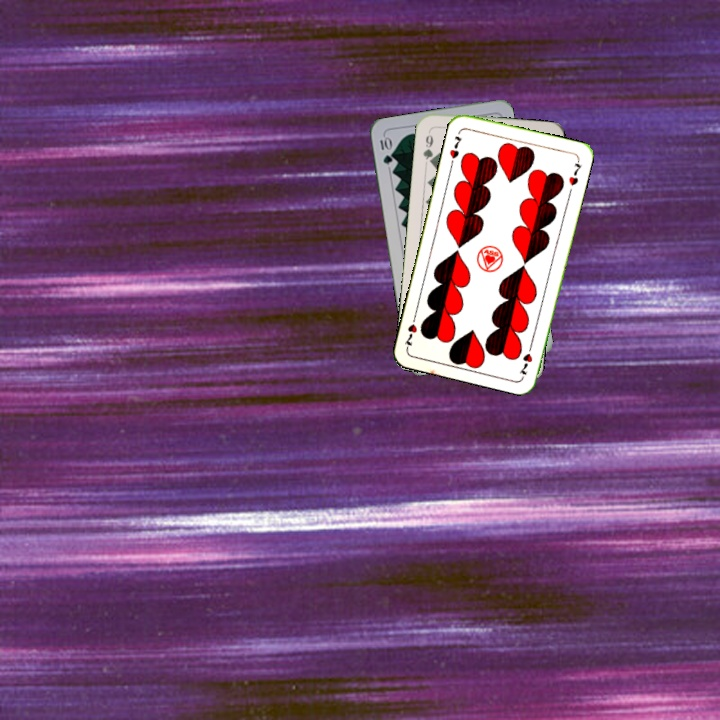G10: (376, 133, 395, 167)
G9: (419, 126, 436, 167)
H7: (516, 339, 535, 377), (445, 132, 465, 161)
